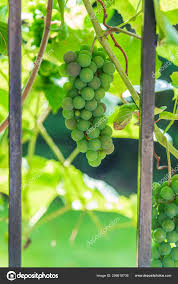grapes: (60, 45, 122, 171)
